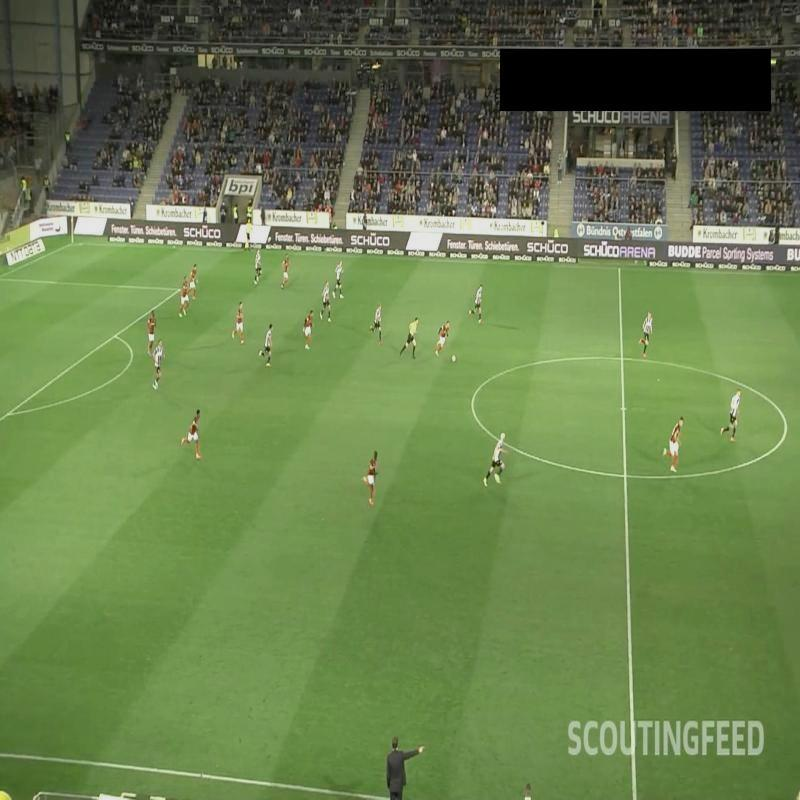1: (66, 235, 80, 249)
10: (108, 329, 122, 343)
11: (2, 406, 16, 420)
13: (612, 262, 626, 276)
14: (615, 351, 629, 365)
15: (618, 468, 632, 482)
9: (172, 282, 186, 295)
c: (464, 393, 481, 408), (778, 419, 792, 433)
